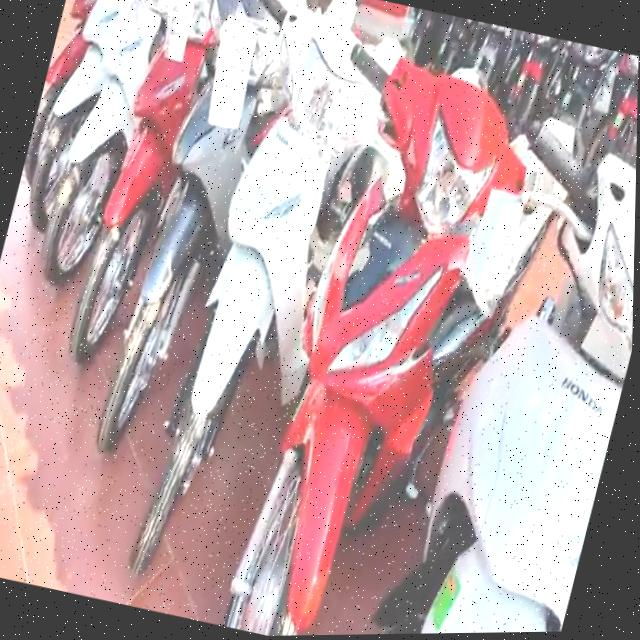motorcycle: (219, 27, 536, 637), (109, 0, 368, 615), (394, 103, 638, 634), (80, 0, 288, 479), (48, 0, 219, 373)
